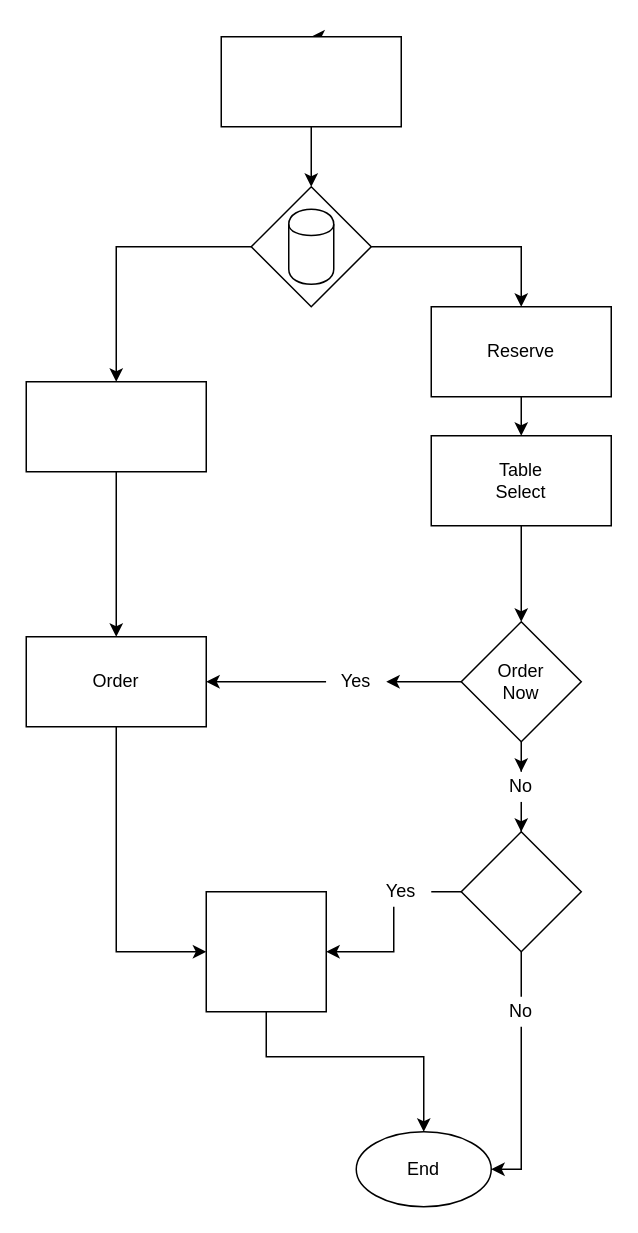
Image size: 638x1233. Some labels were removed from this diagram. Each missing label, with the centre of its shape:
"Home" goes at (x=310, y=81).
"Name Phone" goes at (x=310, y=246).
"Pay Now?" goes at (x=520, y=891).
"Payments" goes at (x=265, y=951).
"TakeOut" goes at (x=115, y=426).
